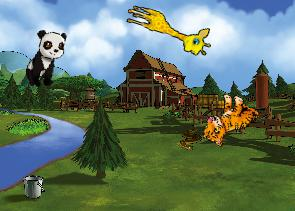giraffe: (120, 2, 215, 59)
panda: (22, 26, 69, 92)
tiger: (198, 87, 262, 155)
